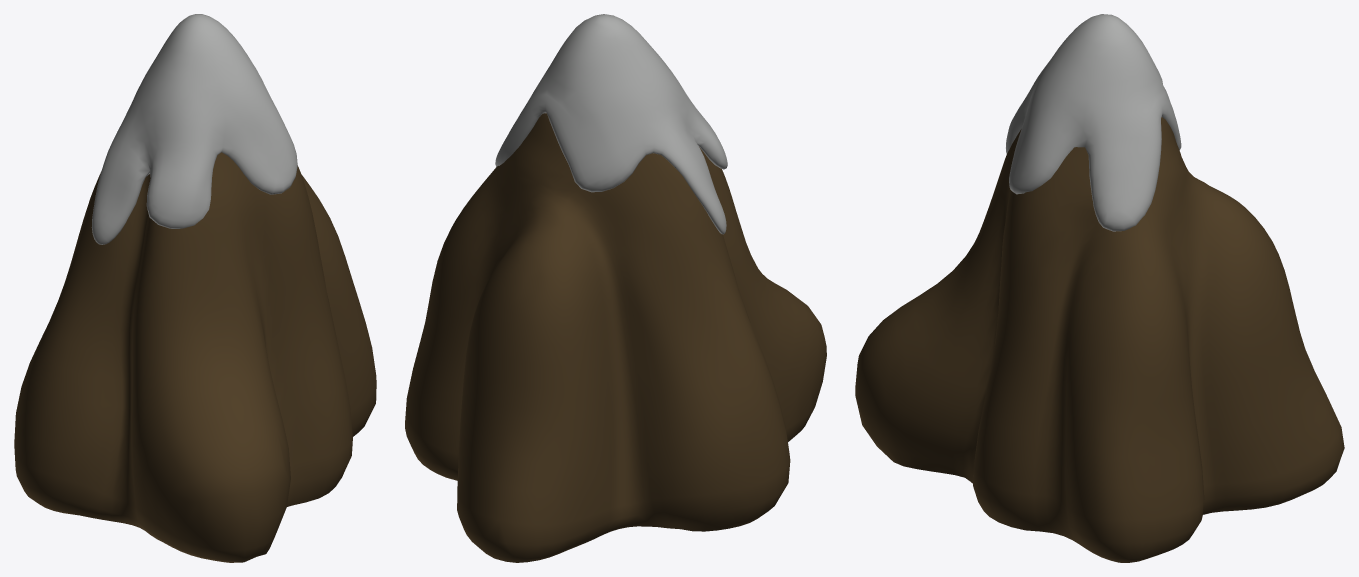
The model's file is Mountain 1.fbx.
3 views of the same model, side by side, from view 1: azimuth 30°, elevation 25°; view 2: azimuth 150°, elevation 25°; view 3: azimuth 270°, elevation 25° (orthographic). The views are drawn at different scales.
Parts seen in each view (by area): view 1: node_id94; view 2: node_id94; view 3: node_id94.
Boxes of the visible parts, x1=… form: node_id94: x1=14, y1=14, x2=376, y2=562; node_id94: x1=405, y1=14, x2=826, y2=562; node_id94: x1=855, y1=14, x2=1344, y2=562.
Size of the model in its own units: 0.4205 by 0.512 by 0.4896.
Materials: 1 (1 with a texture image).
